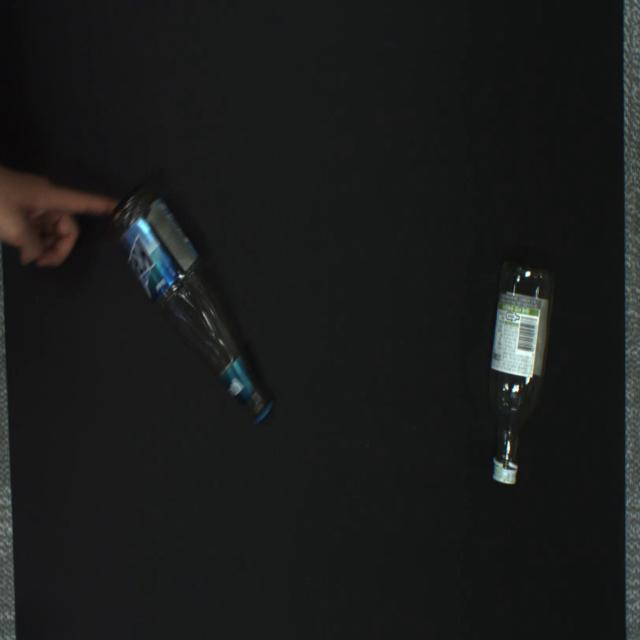beer-bottle: (111, 186, 274, 425)
soju-bottle: (489, 262, 554, 485)
